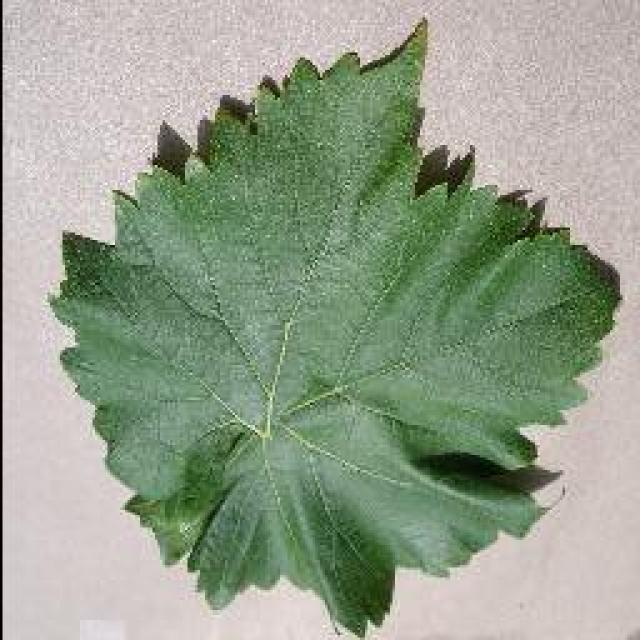Grape___healthy: (50, 20, 618, 632)
